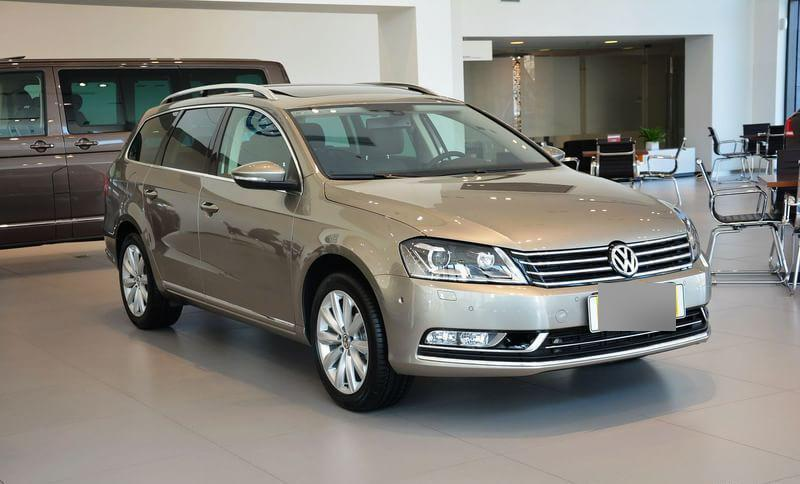Wagon: (100, 81, 713, 414)
